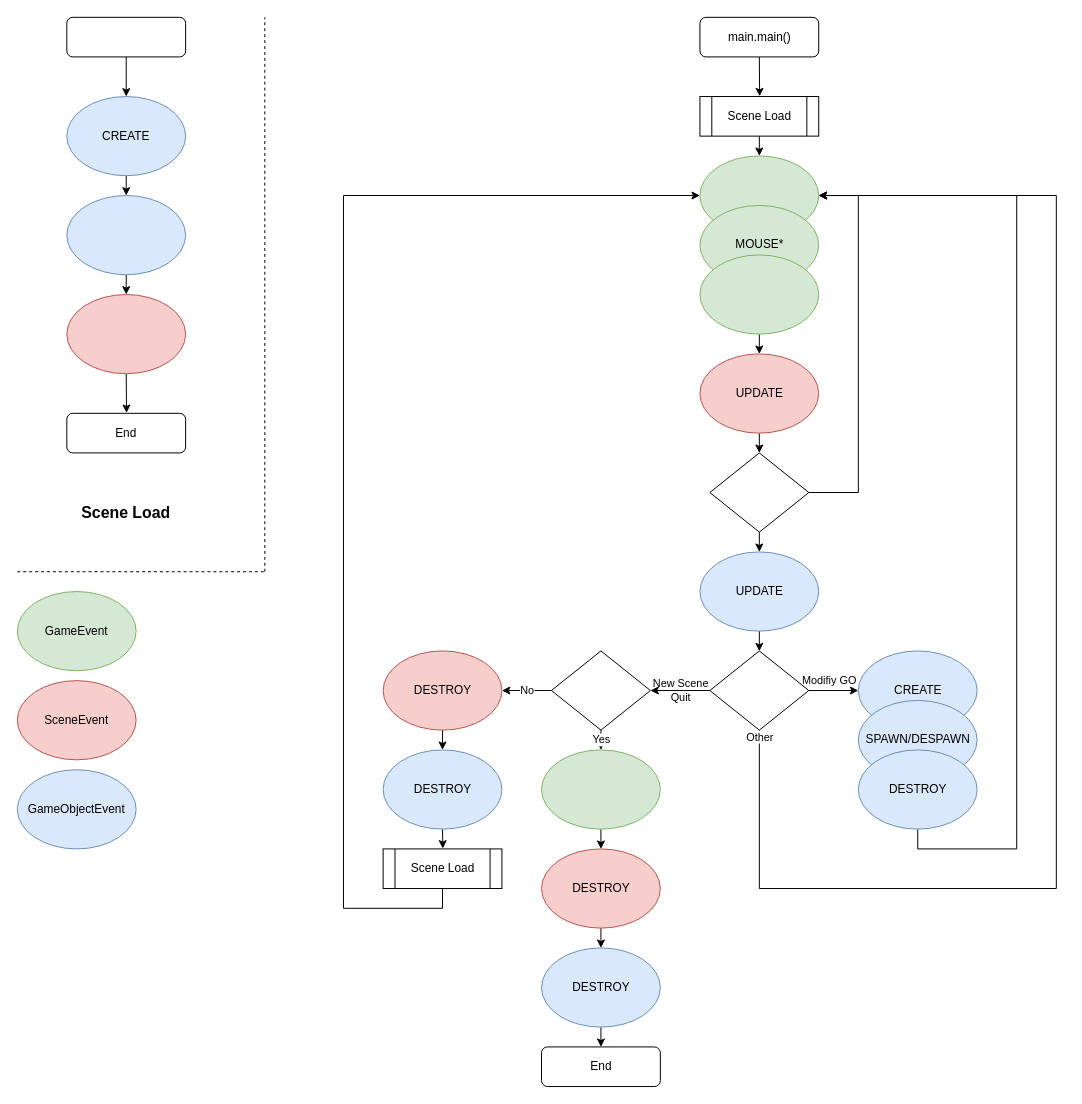
Image size: 1082x1104. Some labels were removed from this diagram. Each missing label, with the centre of its shape:
"ACTIVATE" goes at (x=126, y=334).
"ACTIVE" goes at (x=759, y=294).
"Component update" goes at (x=759, y=690).
"Is GObj spawned?" goes at (x=759, y=492).
"KEY*" goes at (x=759, y=195).
"QUIT" goes at (x=600, y=789).
"Quit?" goes at (x=600, y=690).
"scenloader.load()" goes at (x=126, y=36).
"SPAWN" goes at (x=126, y=235).
